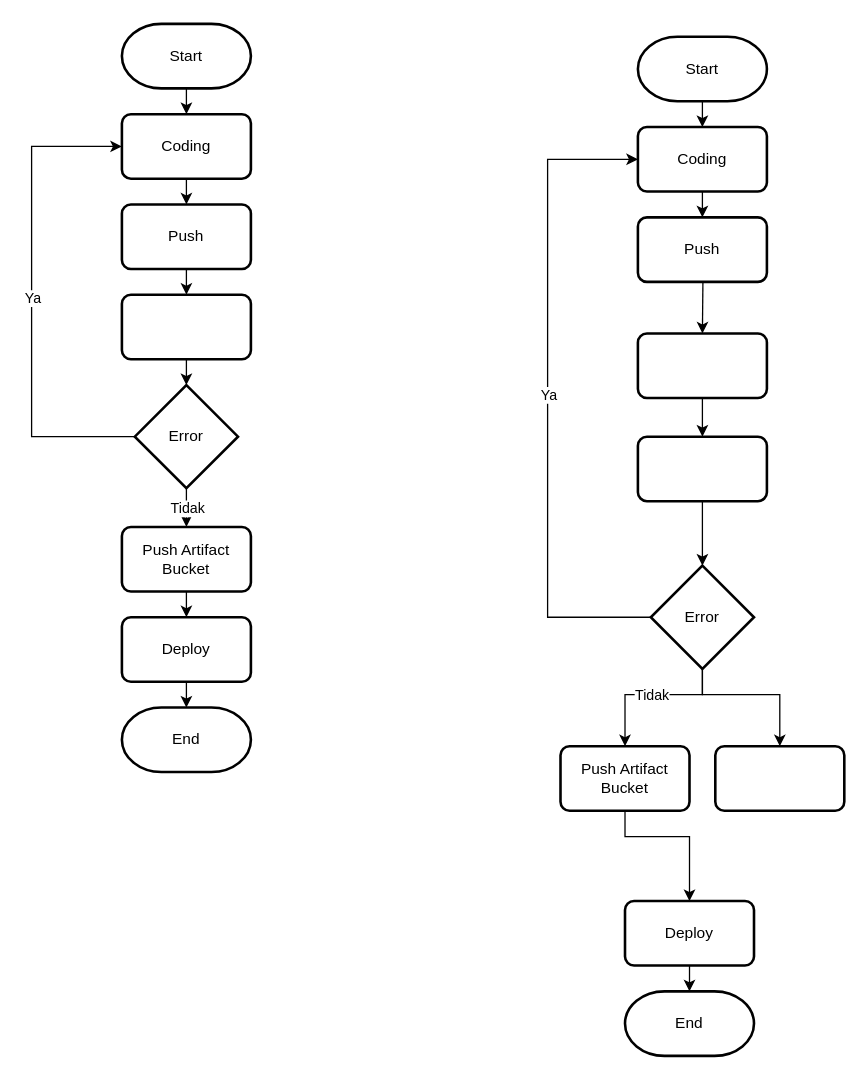
Image size: 868x1078. Some labels were removed from this diagram. Here are the shapes that lost their labels. From the top down, the centre of each, then its label:
At (x=186, y=326): "Build & Test".
At (x=702, y=365): "Trigger pipeline".
At (x=702, y=468): "Build & create image".
At (x=779, y=777): "Push Registry".
